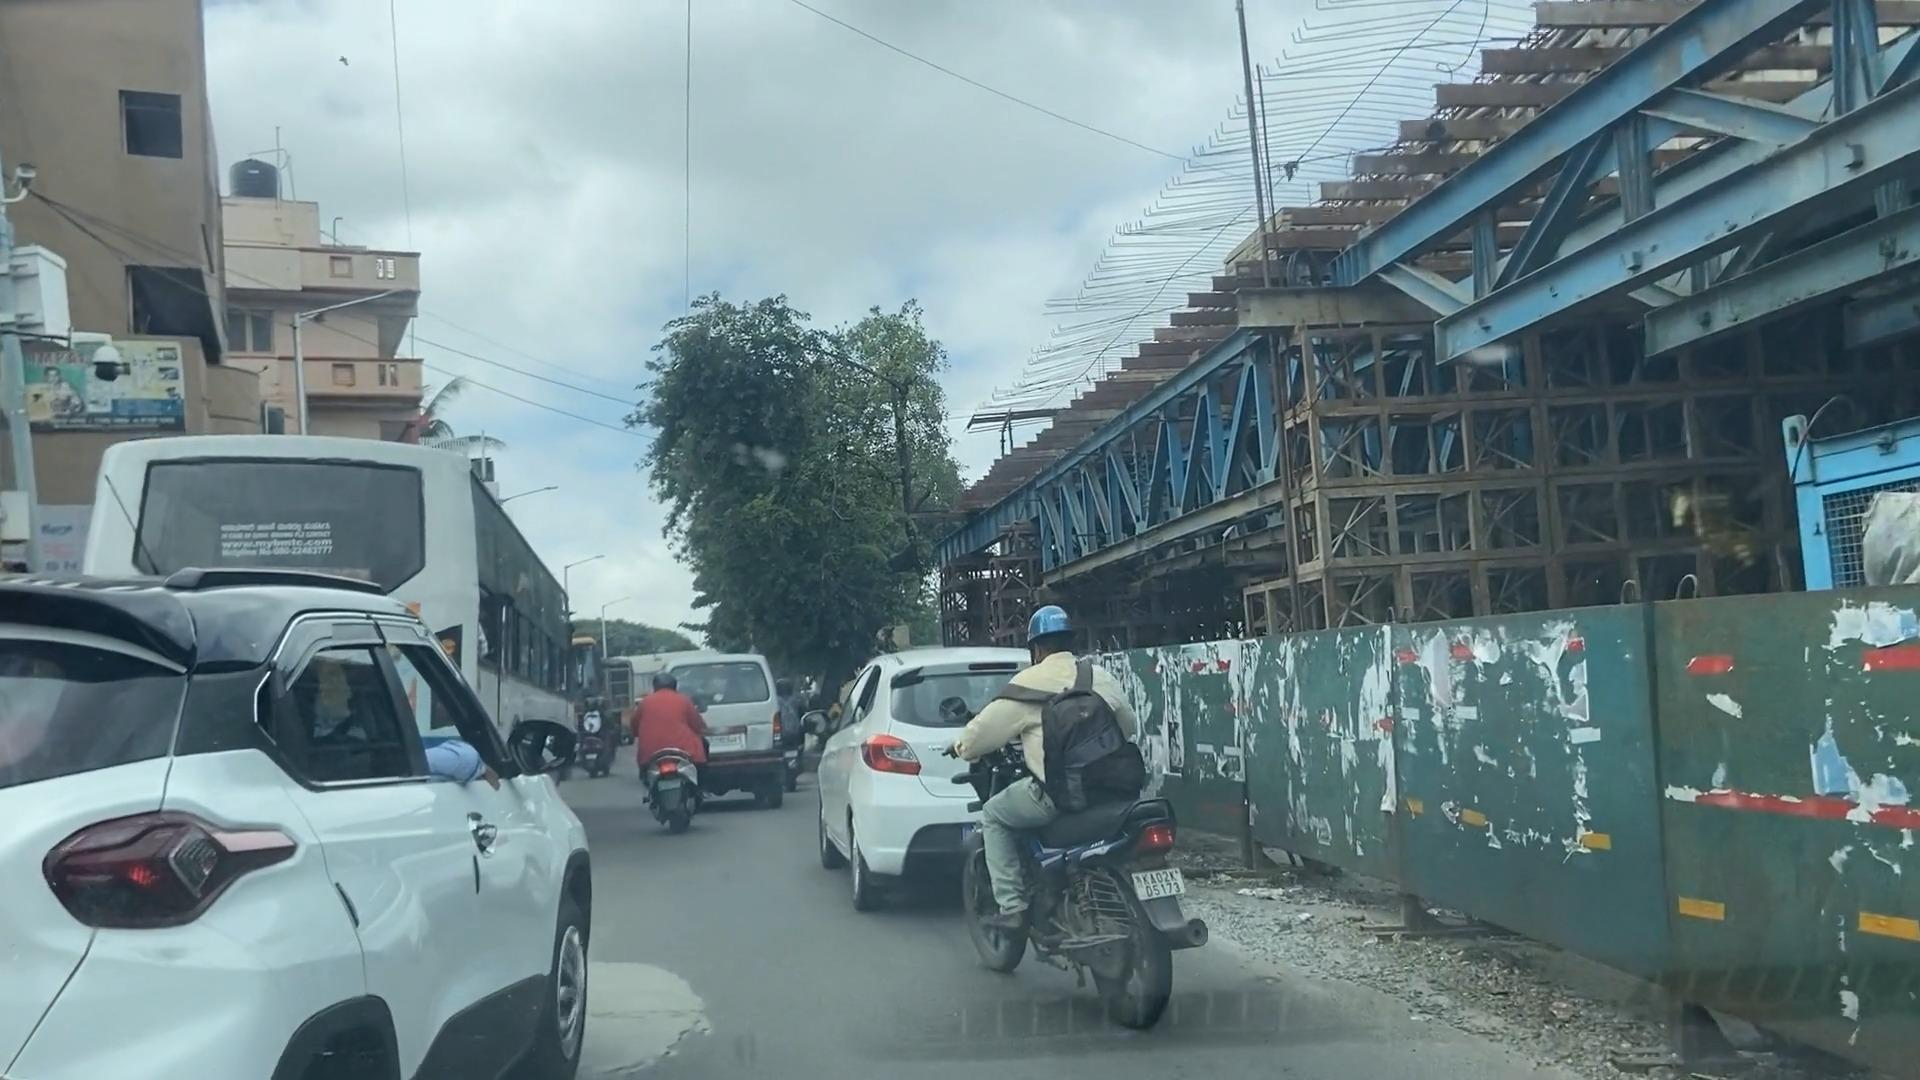LMV: (982, 607, 1171, 975), (636, 669, 696, 831)
RoadDamages: (593, 952, 716, 1072)
